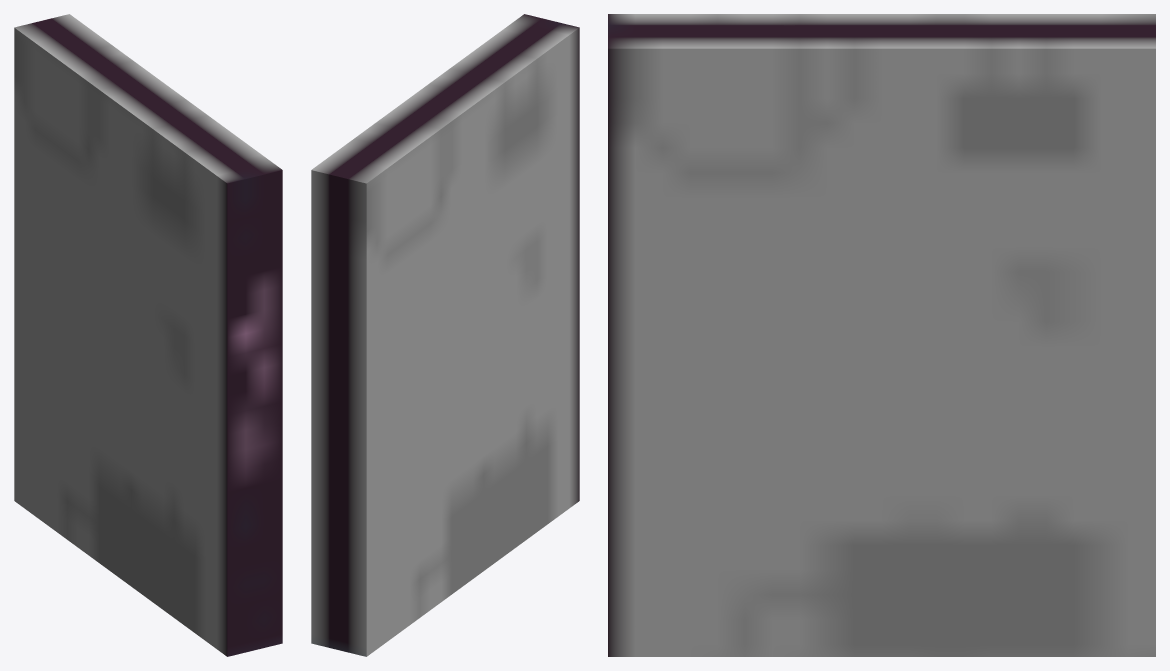
Rendered from BuildingModule_Wall_00.fbx.
3 views of the same model, side by side, from view 1: azimuth 30°, elevation 25°; view 2: azimuth 150°, elevation 25°; view 3: azimuth 270°, elevation 25° (orthographic). The views are drawn at different scales.
Parts seen in each view (by area): view 1: BuildingModule_Wall_00; view 2: BuildingModule_Wall_00; view 3: BuildingModule_Wall_00.
Part boxes in pixels (bbox=[...]): BuildingModule_Wall_00: bbox=[14, 14, 282, 656]; BuildingModule_Wall_00: bbox=[311, 14, 579, 656]; BuildingModule_Wall_00: bbox=[608, 14, 1155, 656].
Size of the model in its own units: 30 by 245 by 200.
